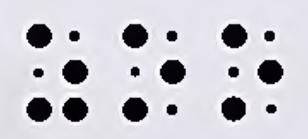o: (123, 21, 186, 123), (221, 22, 283, 121)
z: (23, 23, 88, 122)
